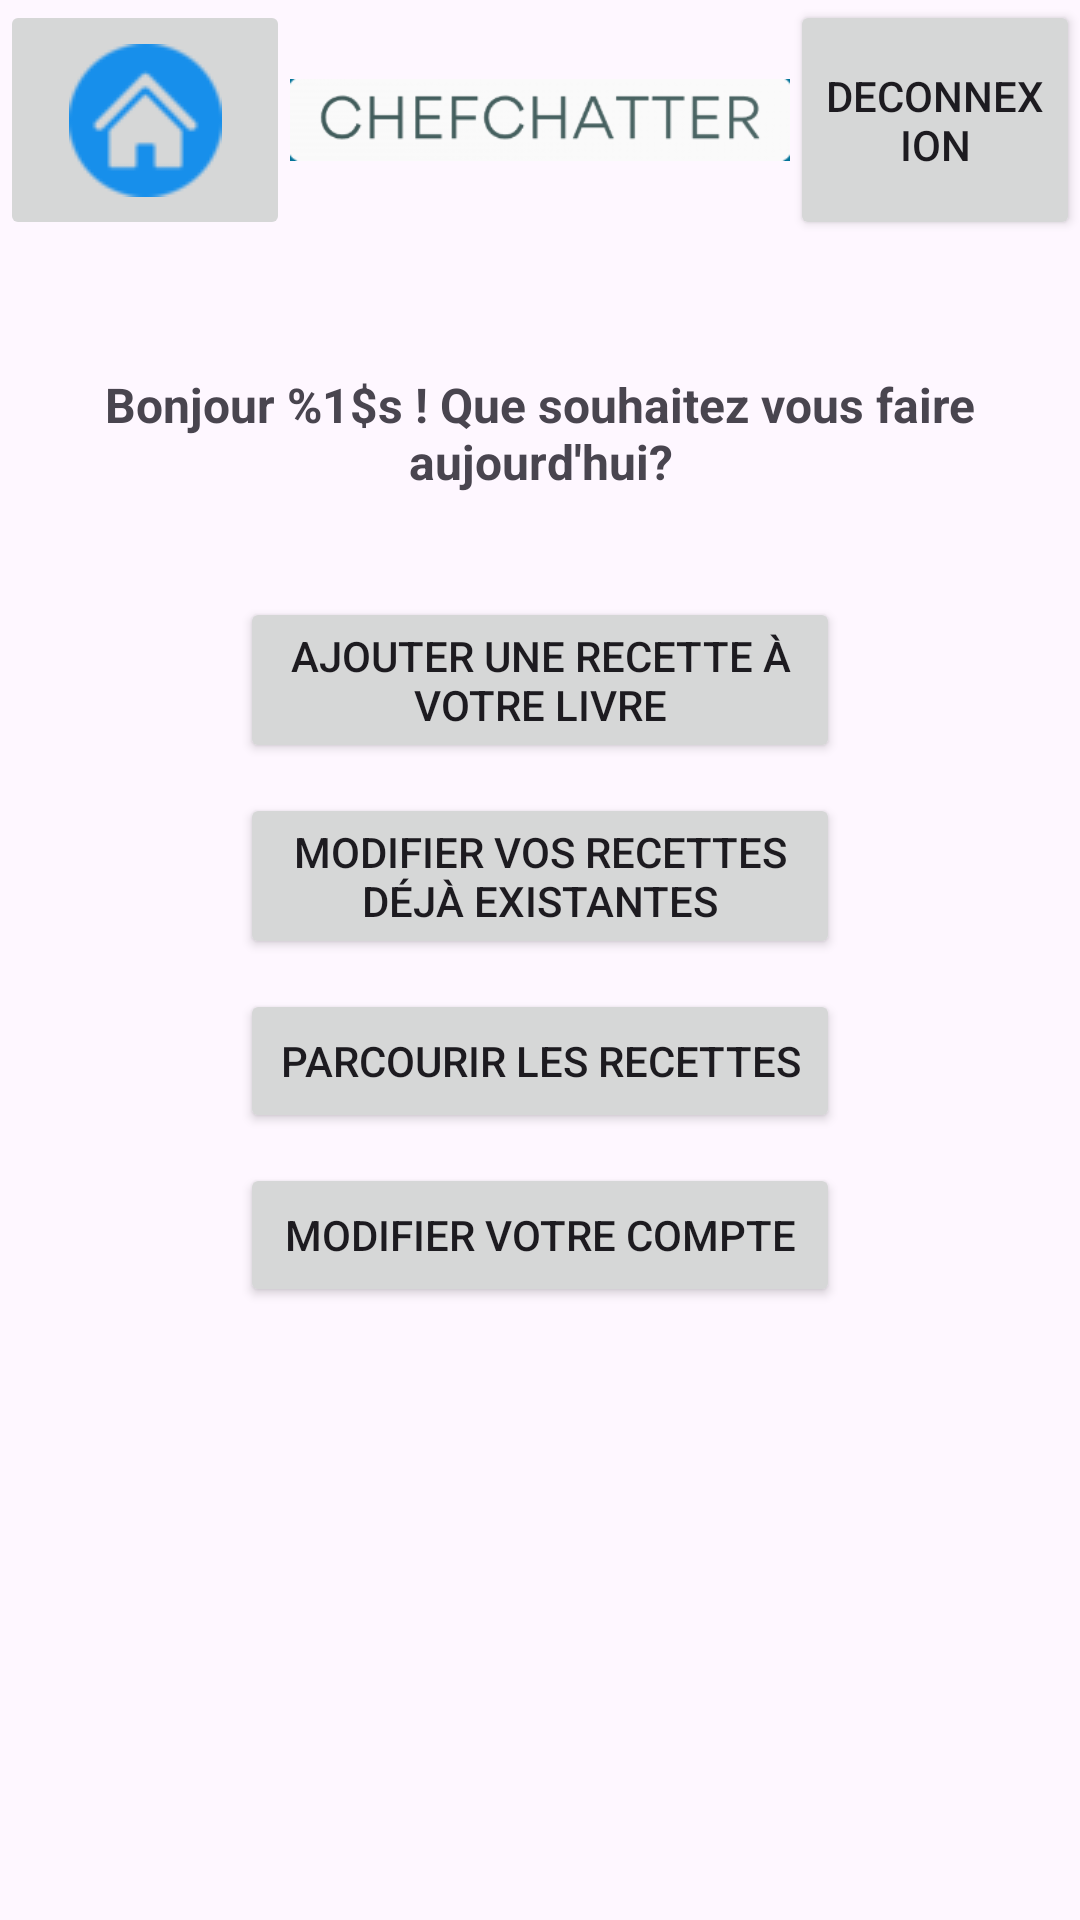

Screen size 1080*1920. Icon name, then its center in pixels as (x,y):
homeimage: (145,120)
